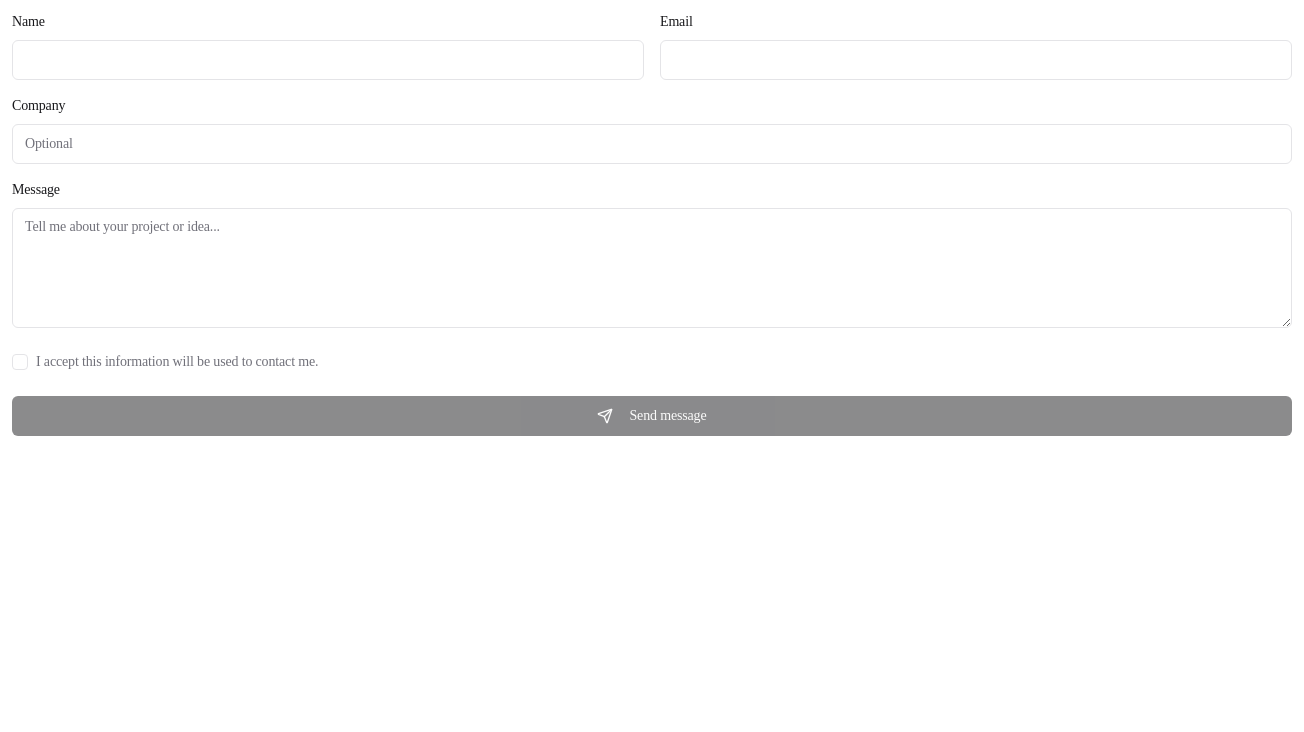
ContactForm › shows a configuration error when the access key is missing
The width and height of the screenshot is (1304, 732).
Type "Test User" into the field labelled "Name" at (328, 60), box [12,40,644,80]
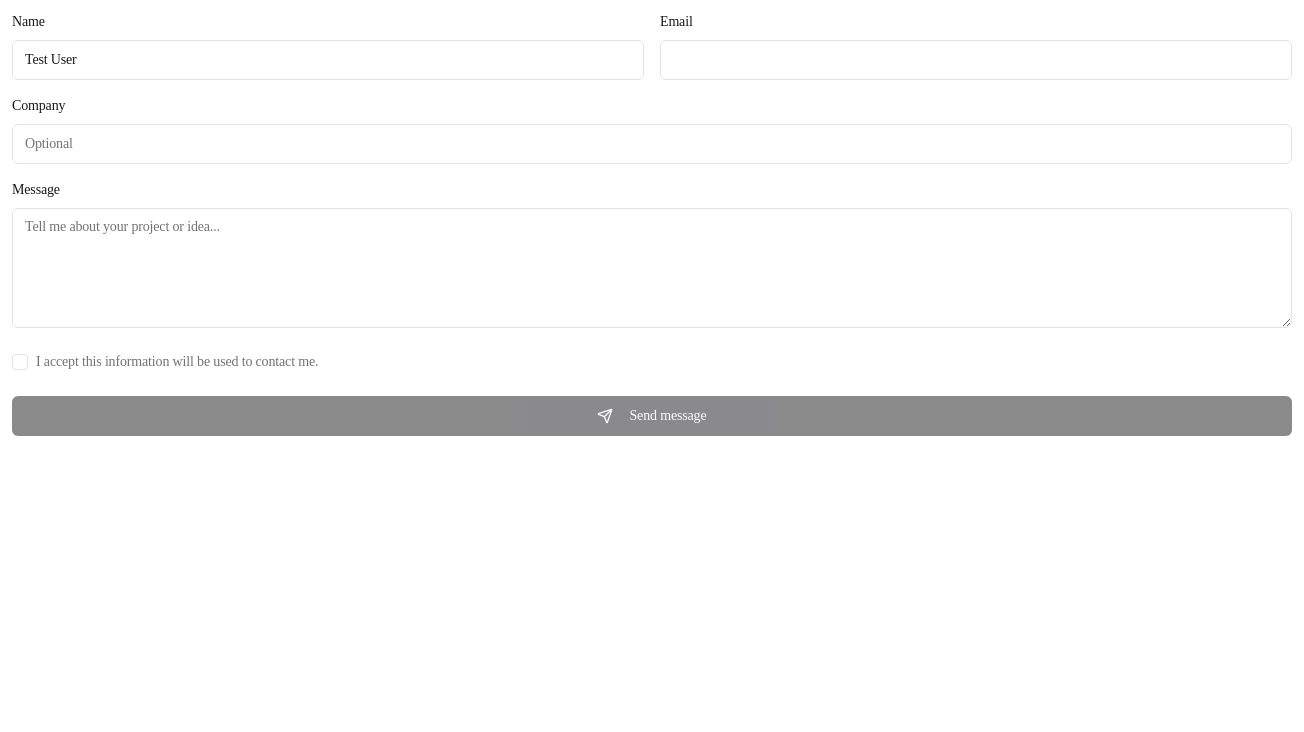
Type "test@example.com" into the field labelled "Email" at (976, 60), box [660,40,1292,80]
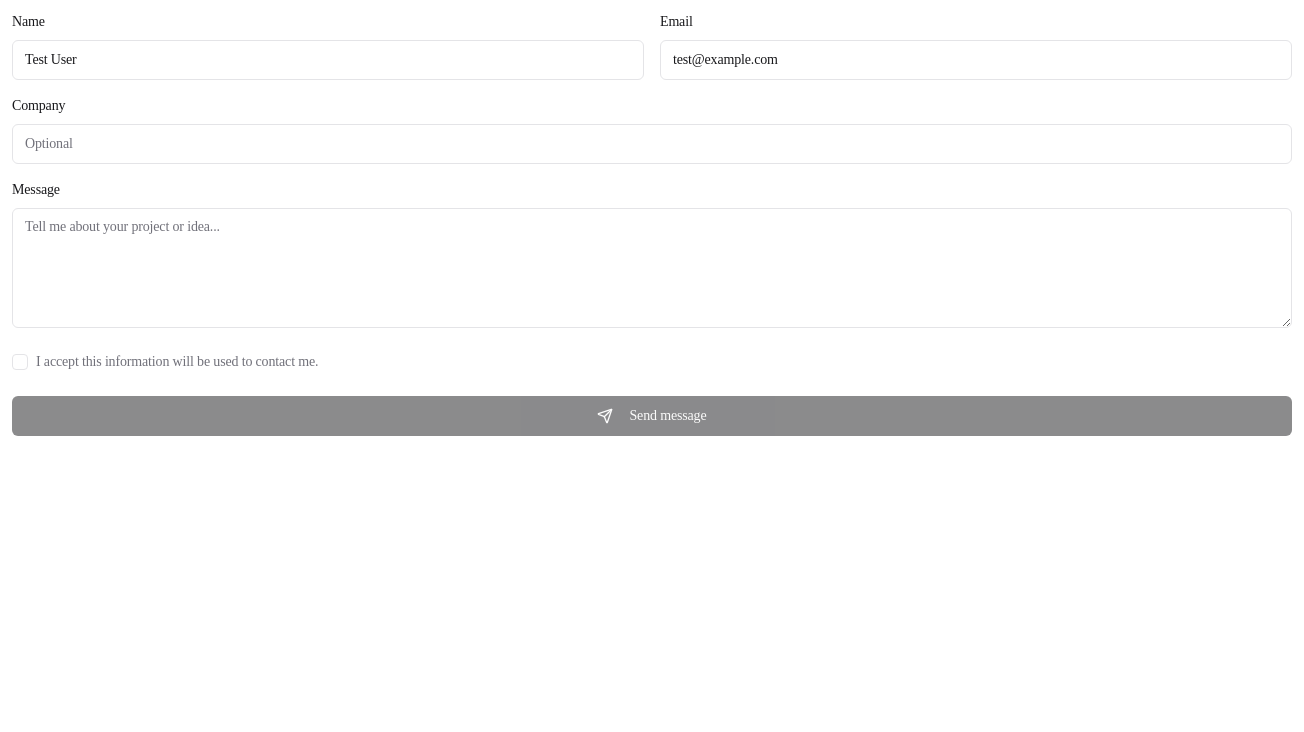
Type "Hello from the test suite!" into the text box labelled "Message" at (652, 268), box [12,208,1292,328]
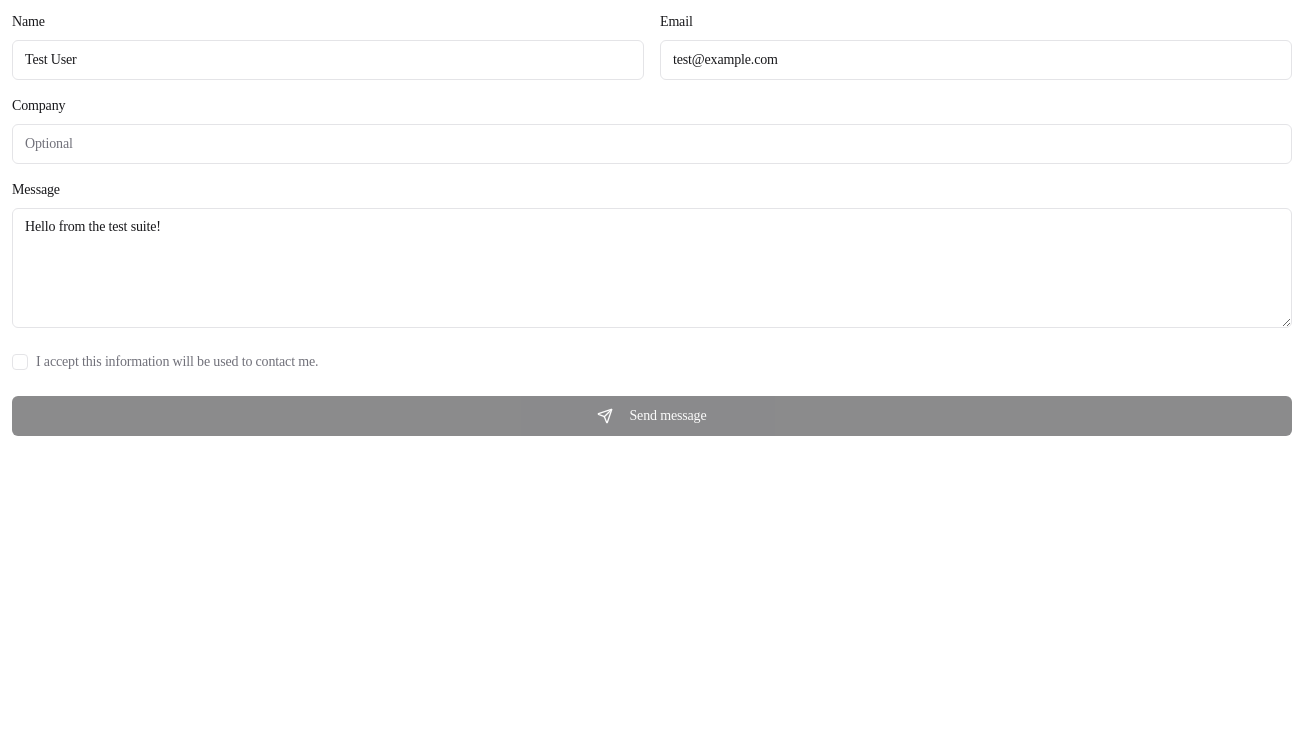
Click the checkbox at (20, 362), box [12,354,28,370]
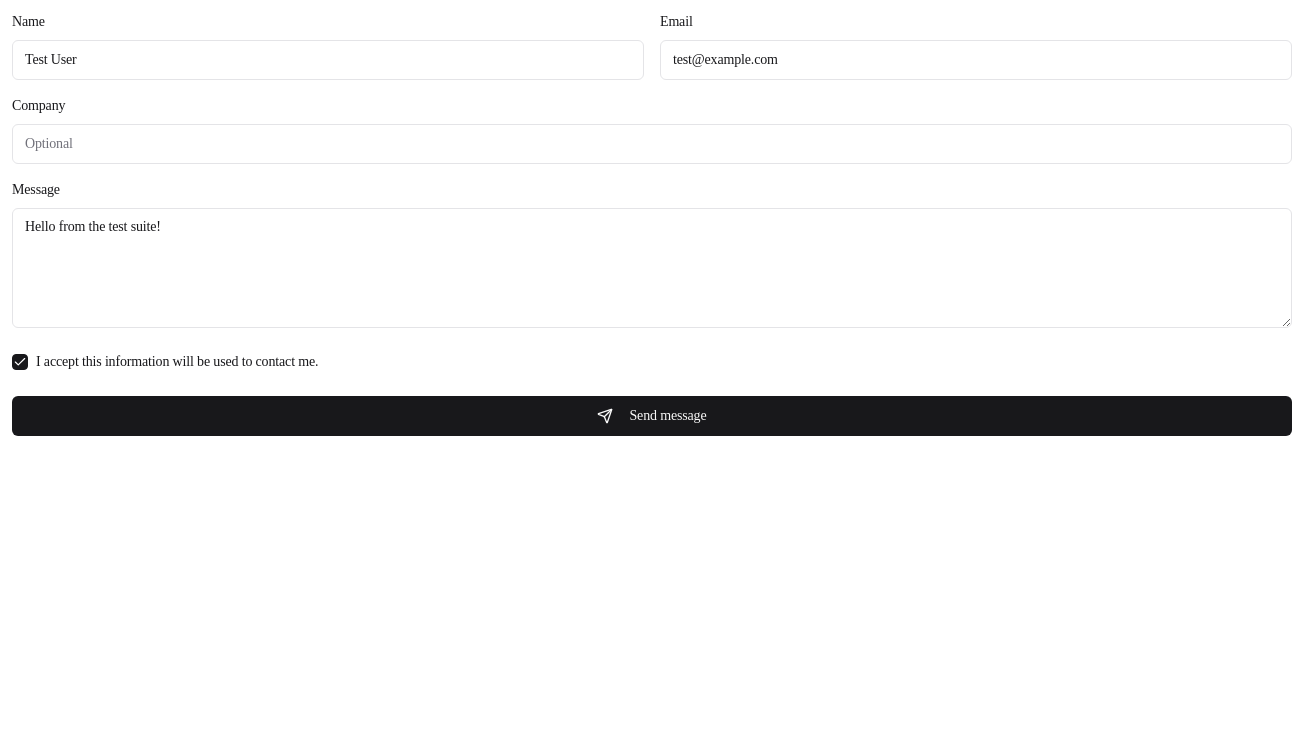
Click the button "Send message" at (652, 416), box [12,396,1292,436]
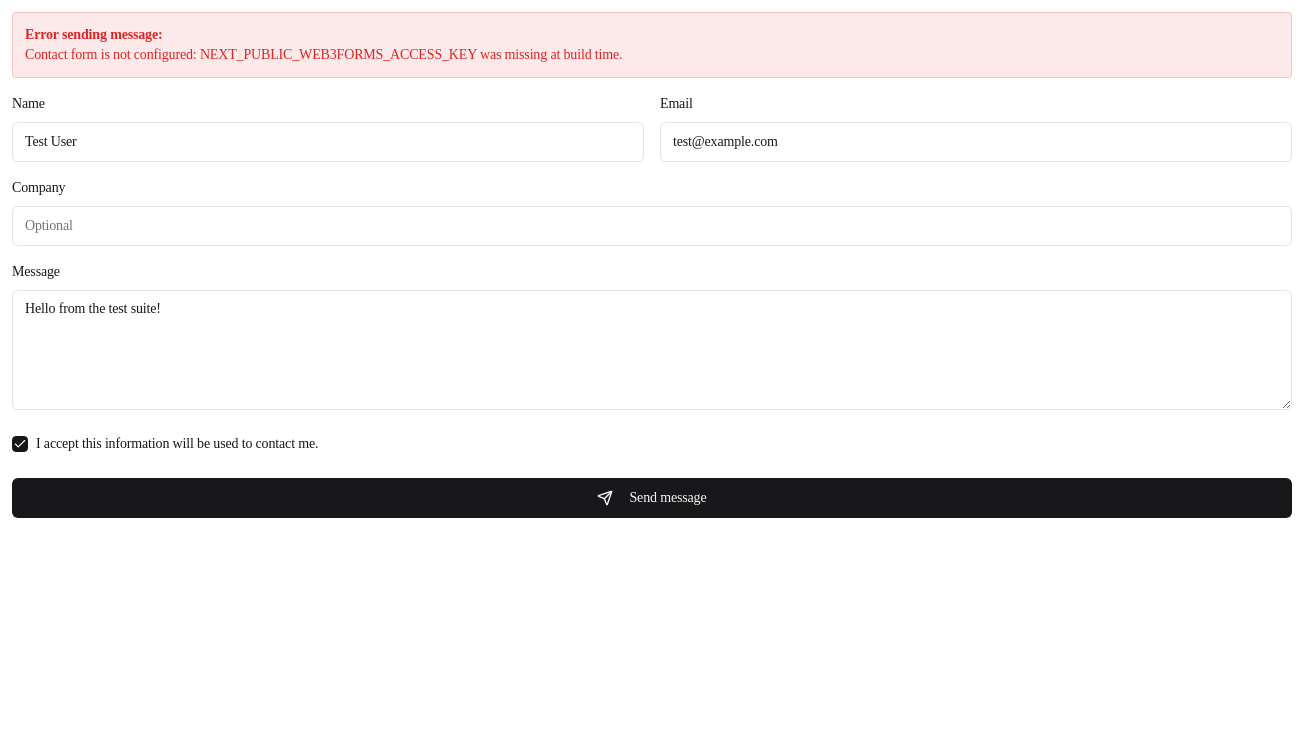
Result: the text "not configured" is shown at [25,47,622,62]
